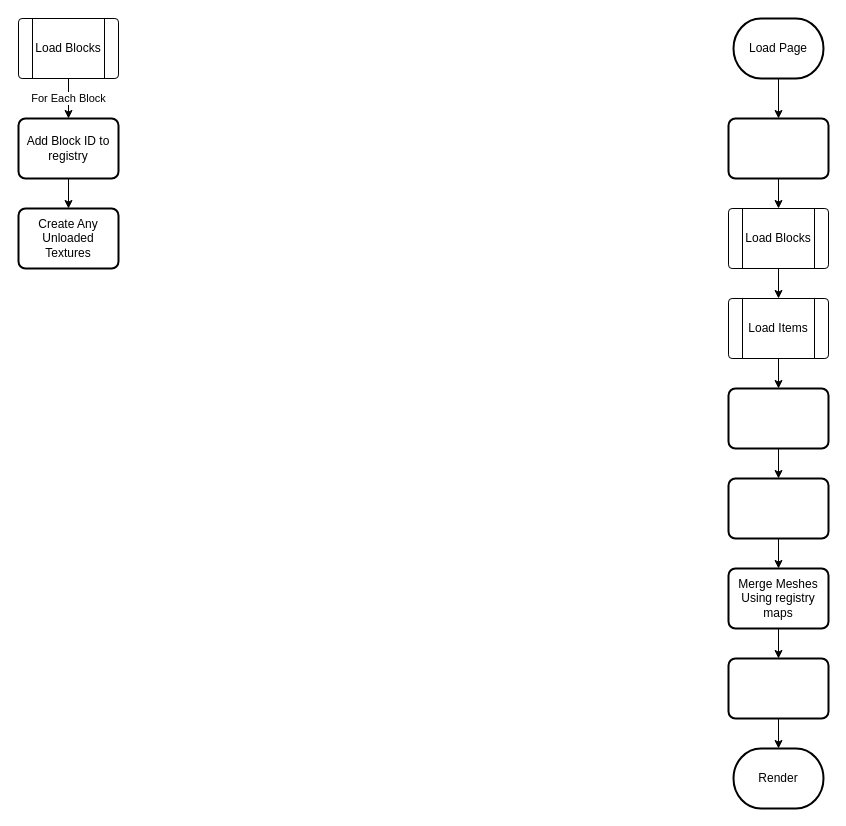
The diagram is 846 pixels wide and 826 high, and some of its shapes have lost their labels. Here are the shapes that lost their labels. From the top down, the box of each, then its label:
(727, 117, 829, 179): Instantiate Registry
(727, 387, 829, 449): Instantiate World
(727, 477, 829, 539): Create Chunks
(727, 657, 829, 719): Add mesh to scene
